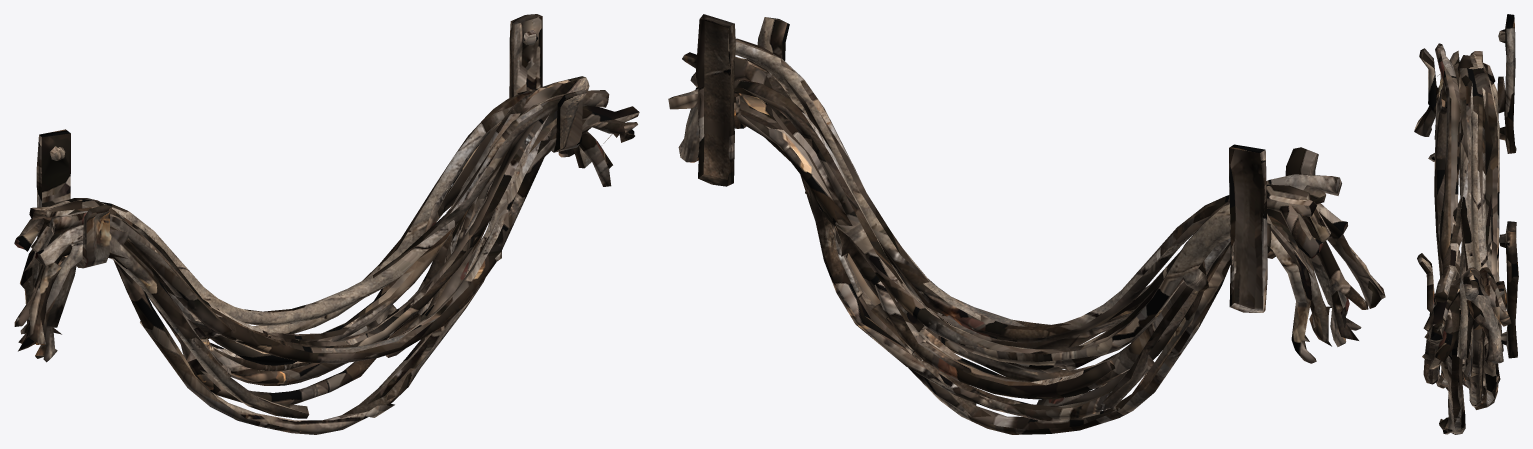
File: DrapedCableLoop.fbx
3 renders of one model, left to right at view 1: azimuth 30°, elevation 25°; view 2: azimuth 150°, elevation 25°; view 3: azimuth 270°, elevation 25°, orthographic. The views are drawn at different scales.
Visible parts, largest first — view 1: mesh_node; view 2: mesh_node; view 3: mesh_node.
Boxes of the visible parts, x1,y1,x2,y2 form: mesh_node: [14, 14, 639, 434]; mesh_node: [668, 14, 1385, 434]; mesh_node: [1414, 14, 1518, 434].
Size of the model in its own units: 1.97 by 1.03 by 0.3279.
